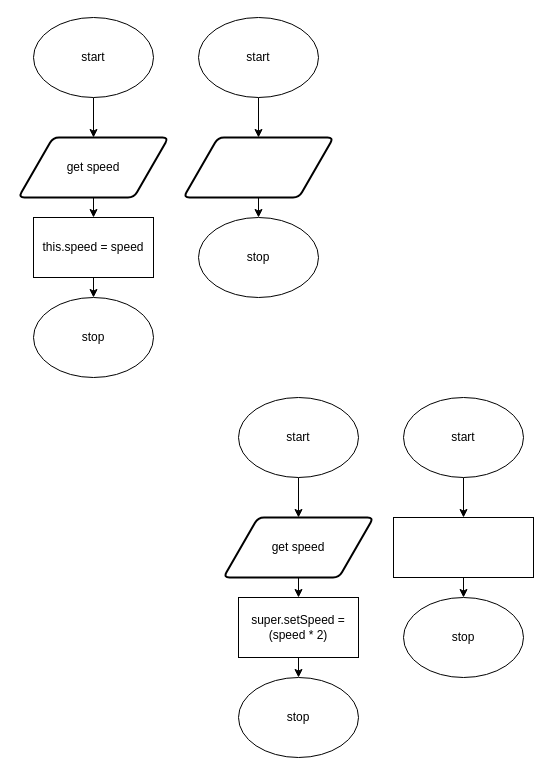
This 551x775 diagram has some shape labels left out. The centre of each missing label's shape, as x and y in pixels:
"return this.speed" goes at [258,167].
"super.setSpeed = (super.getSpeed () * 2)" goes at [463,547].
